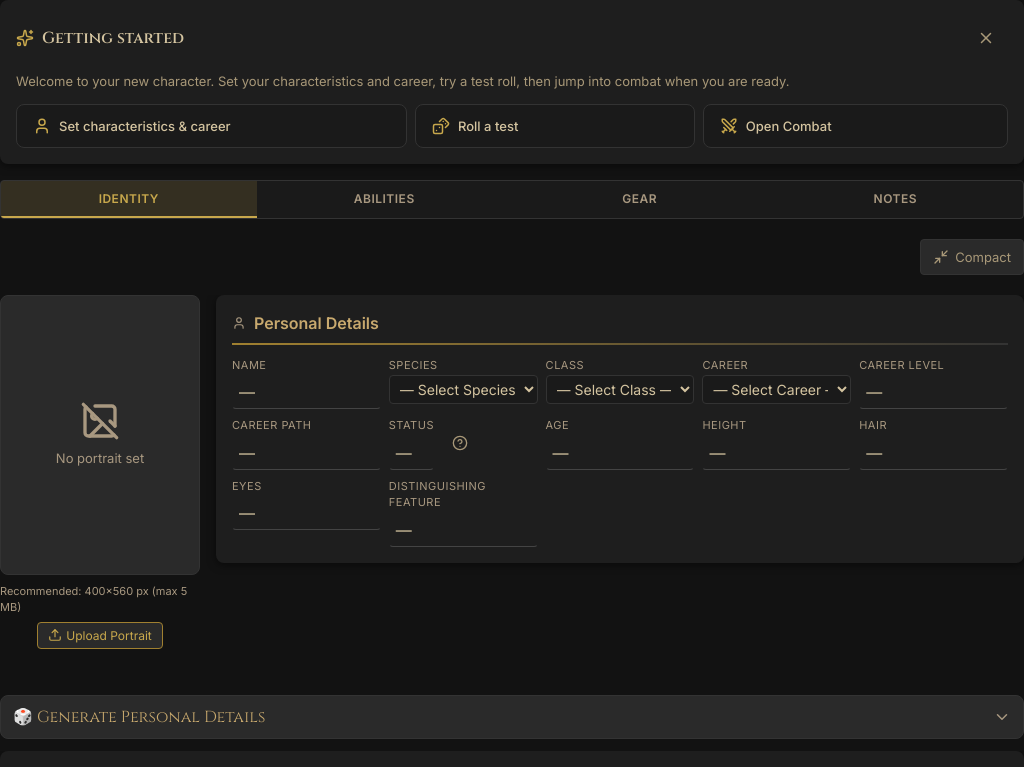
Scenario: Skill tooltips › clicking a basic skill name opens a tooltip with role="tooltip"
# Navigate to the Abilities tab where basic skills are rendered
Click the tab "Abilities" at (384, 199), box [256,180,512,218]
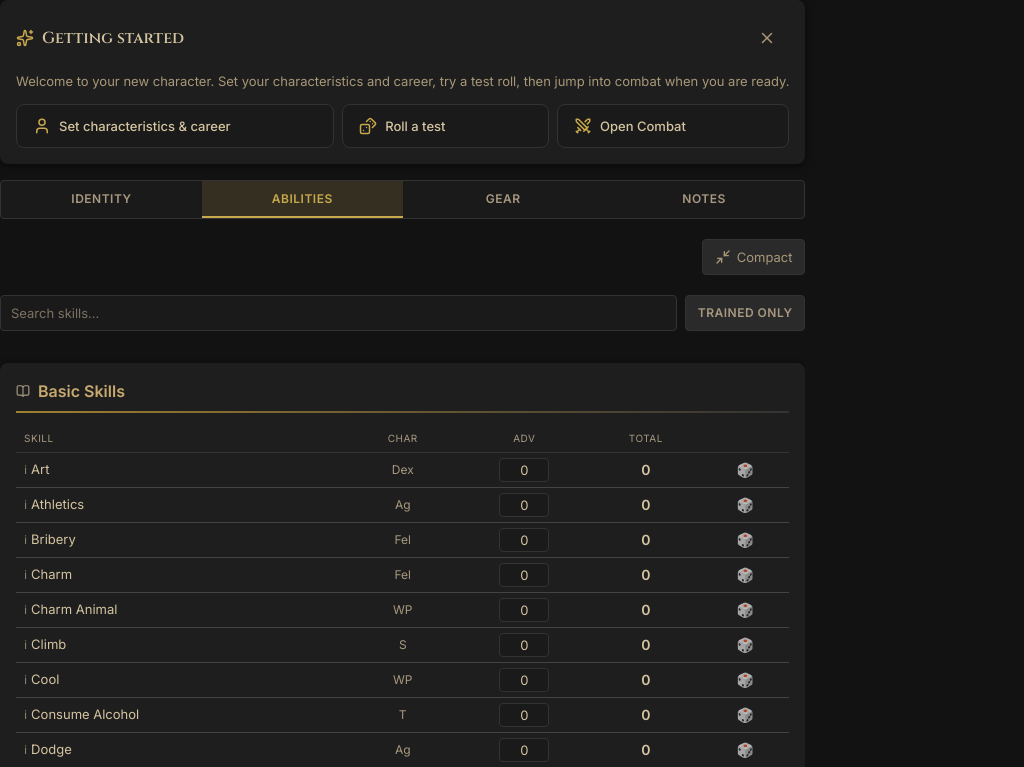
# "Athletics" is a basic skill with a known description — click the info button
Click the button named "Info for Athletics" at (26, 504), box [24,496,27,514]
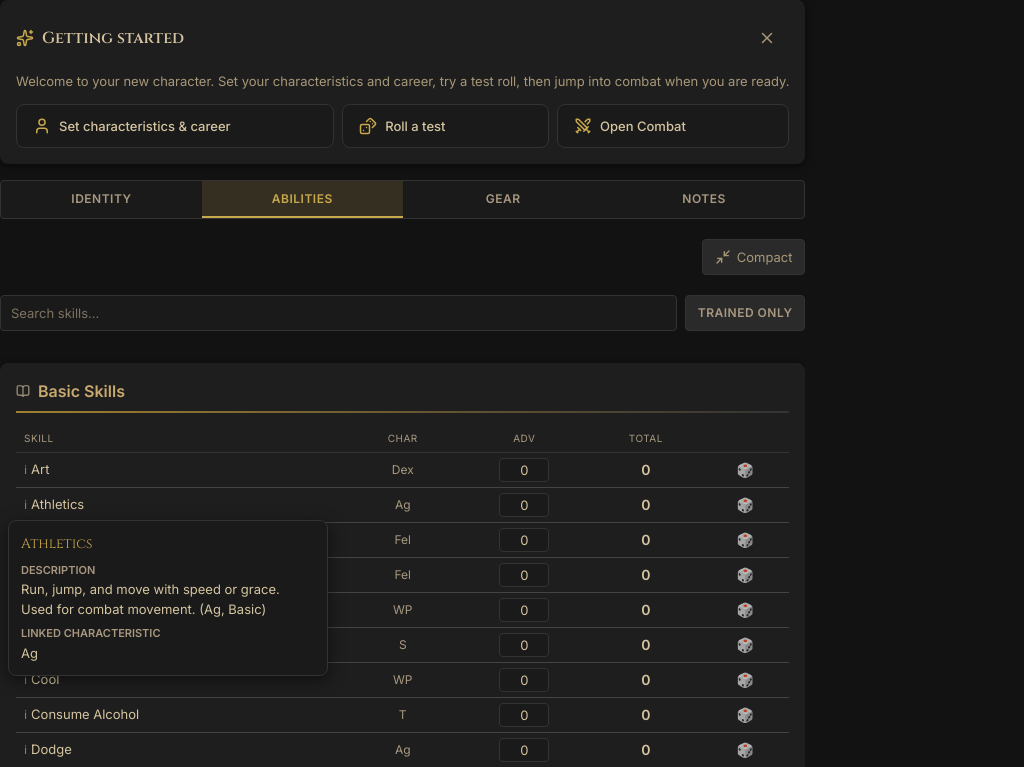
expect the tooltip is shown: met, box [8,520,328,676]
expect the tooltip shows "Athletics": met, box [21,534,92,552]
expect the tooltip shows "Description": met, box [21,562,95,576]
